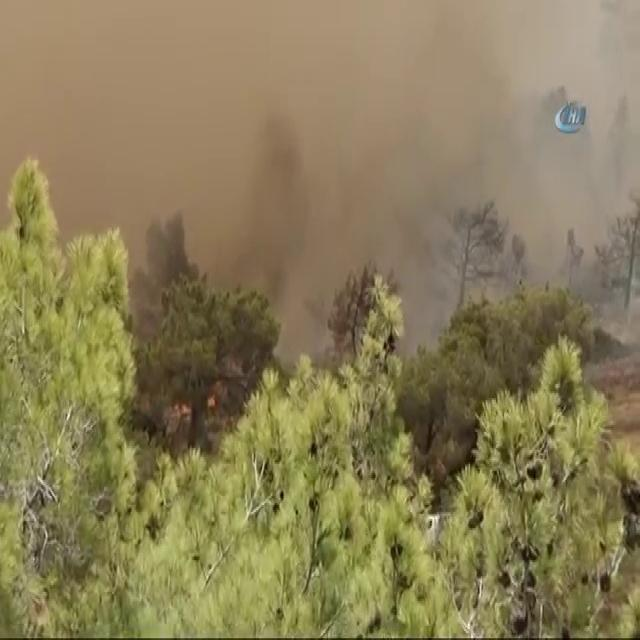Fire: (165, 364, 230, 448)
Smoke: (48, 0, 484, 274), (243, 38, 518, 368), (516, 150, 640, 320)
